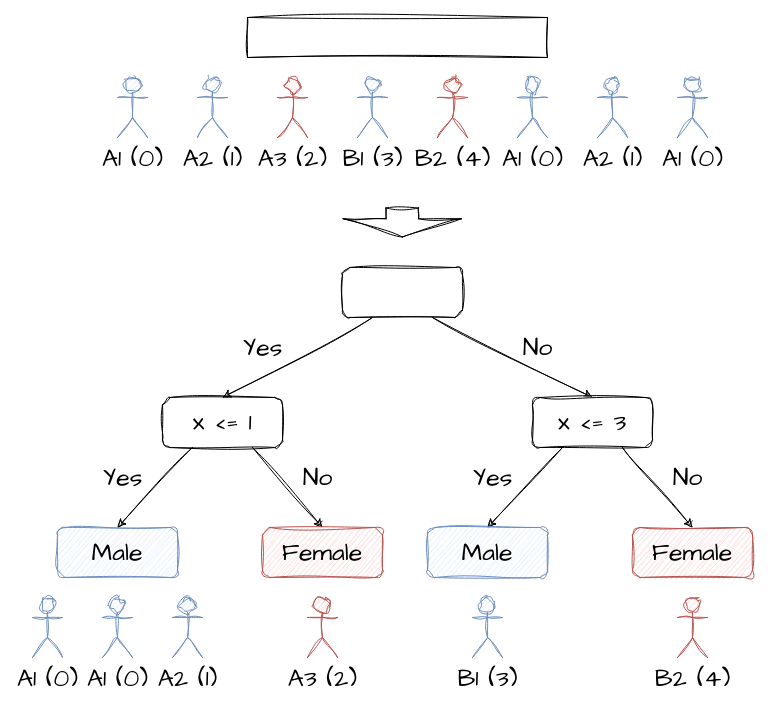
Image size: 770x712. Some labels were removed from this diagram. Here are the shapes that lost their labels. From the top down, the centre of each, then its label:
At (x=397, y=37): "Task : Male or Female?".
At (x=402, y=292): "x <= 2".
